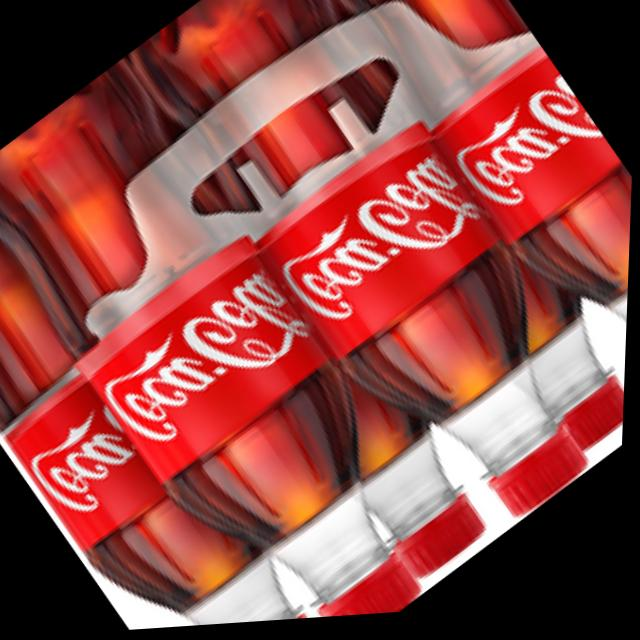plastic_soda_bottles: (103, 0, 640, 584), (0, 41, 487, 640), (0, 132, 366, 640), (274, 0, 640, 460), (289, 356, 508, 604), (467, 262, 631, 479)
